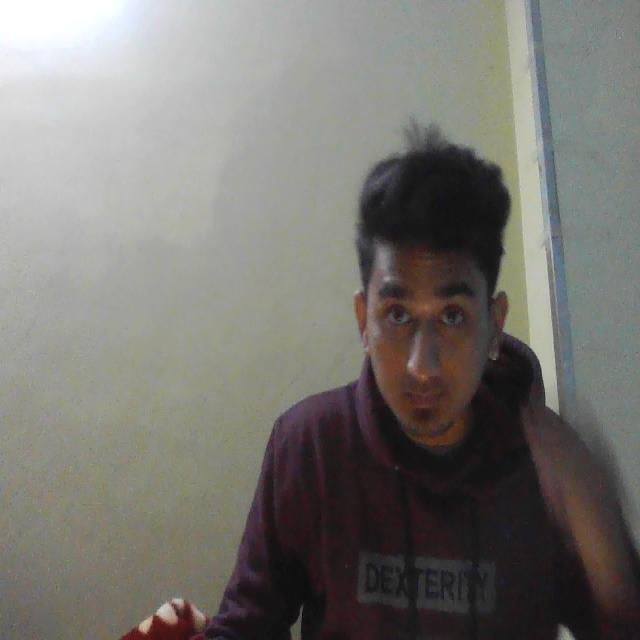real: (352, 149, 518, 464)
